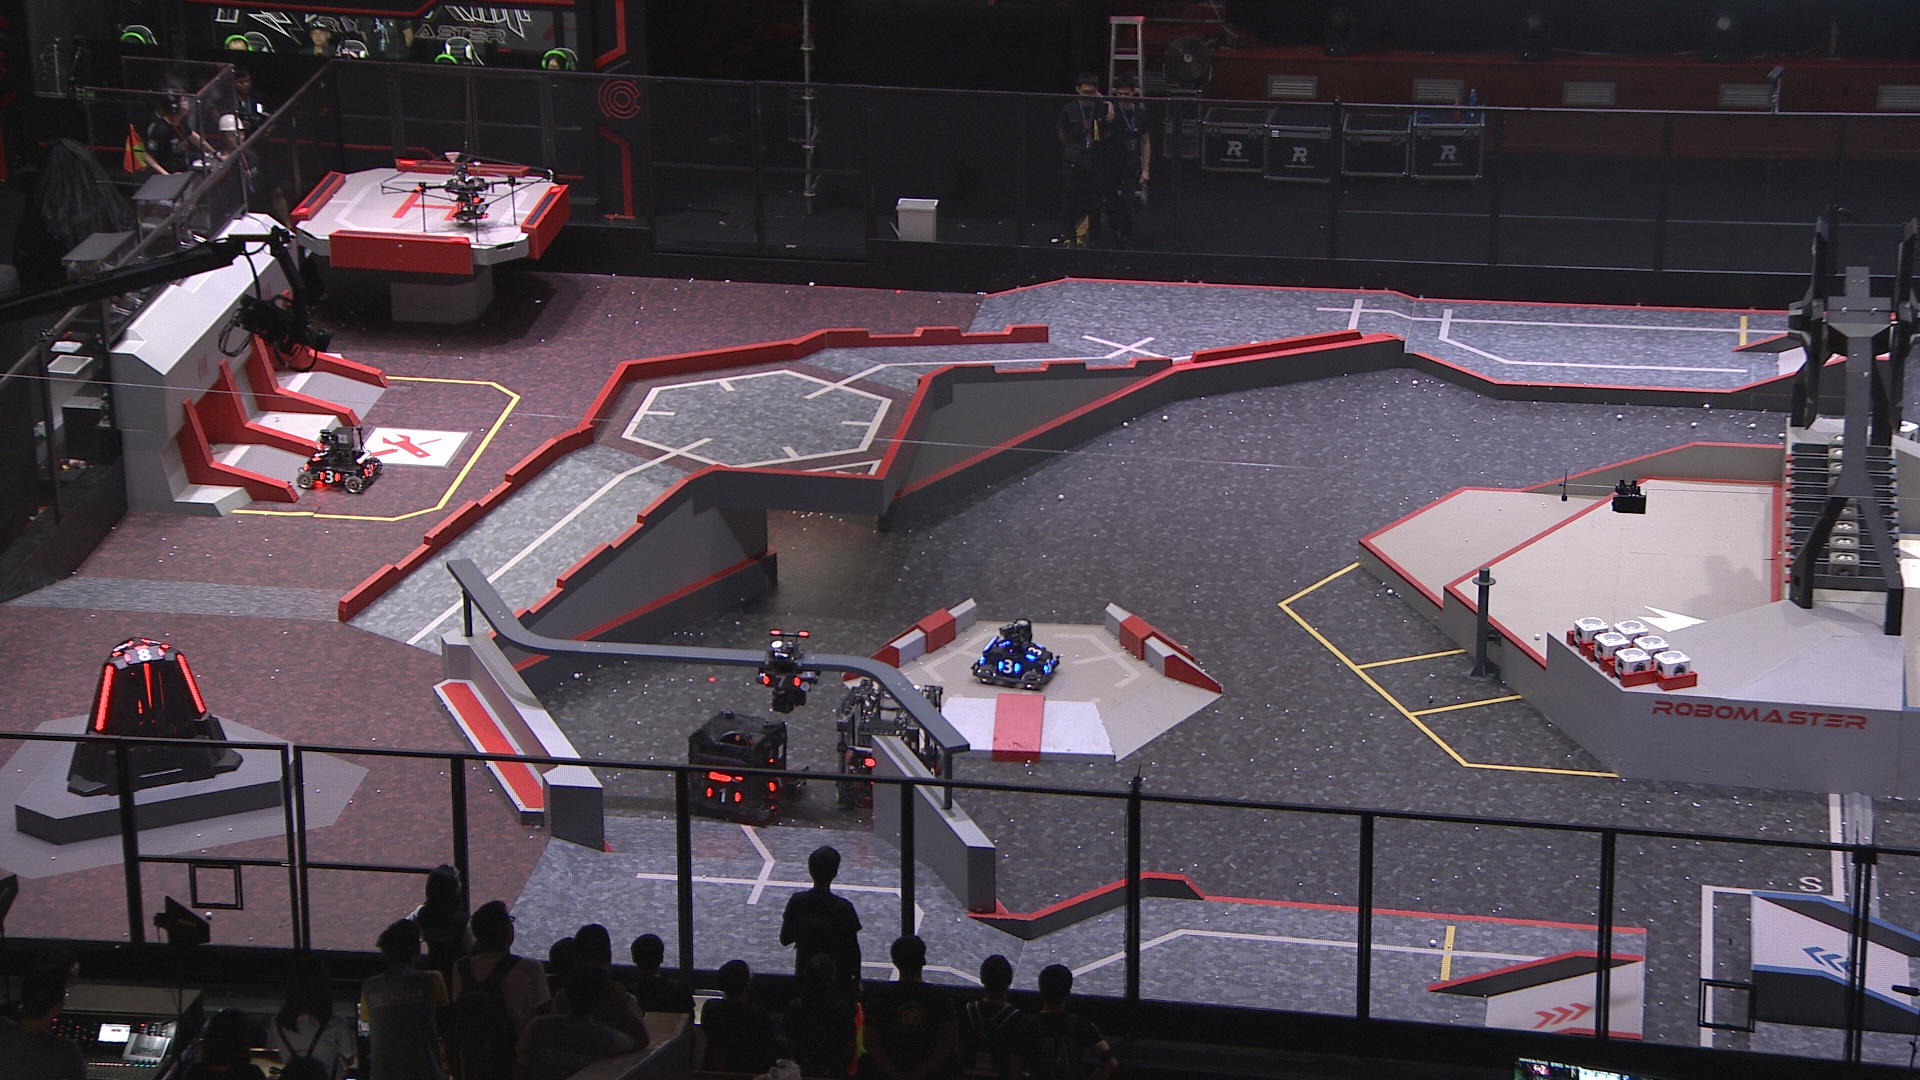armor: (175, 651, 206, 713), (92, 659, 115, 731), (121, 646, 167, 665), (703, 785, 741, 804), (141, 659, 157, 707), (760, 671, 798, 688), (107, 638, 133, 655), (997, 659, 1021, 675), (315, 469, 340, 484), (858, 752, 884, 765), (767, 774, 785, 793), (1026, 644, 1044, 661), (310, 448, 328, 462), (363, 462, 377, 477), (1043, 655, 1054, 674)
base: (62, 632, 243, 796)
car: (833, 675, 955, 800), (679, 712, 802, 823), (969, 618, 1059, 687), (295, 423, 384, 491)
watcher: (756, 628, 820, 713)
